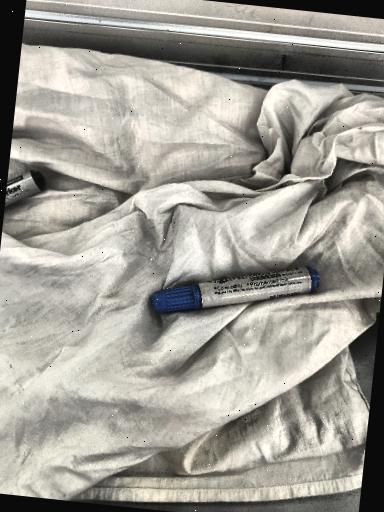marcador azul: (152, 266, 319, 312)
marcador negro: (4, 170, 46, 206)
